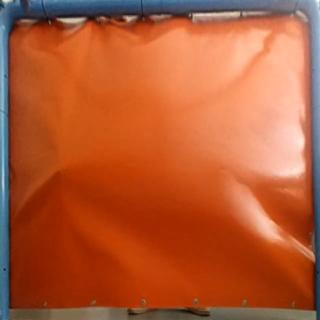Hit-hRxx: (52, 161, 74, 178)
